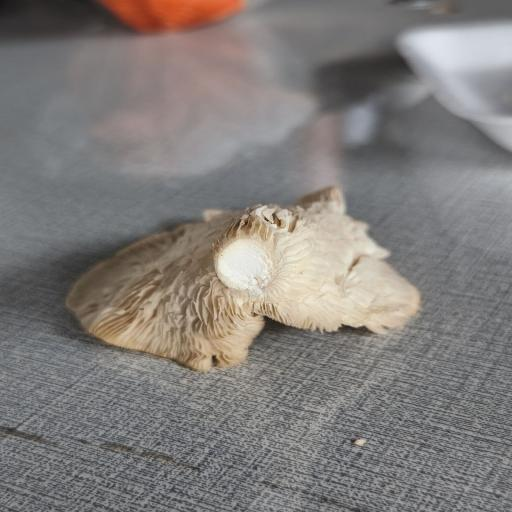White Oyster Mushroom: (53, 185, 450, 373)
